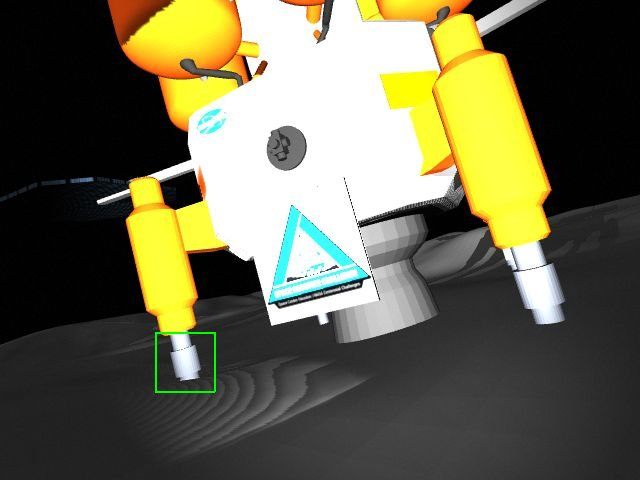basemarker: (268, 204, 371, 309)
